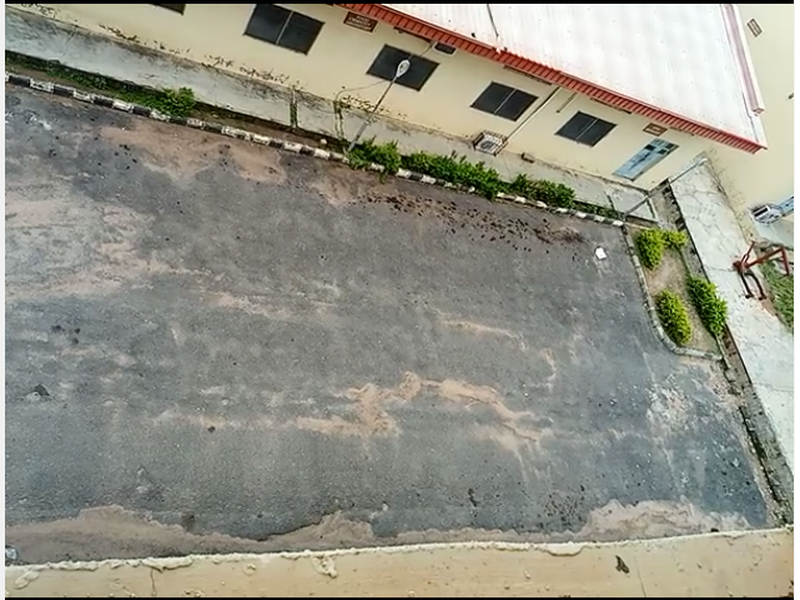five: (547, 183, 671, 334)
four: (400, 152, 511, 328)
three: (241, 121, 358, 308)
two: (63, 79, 196, 289)
